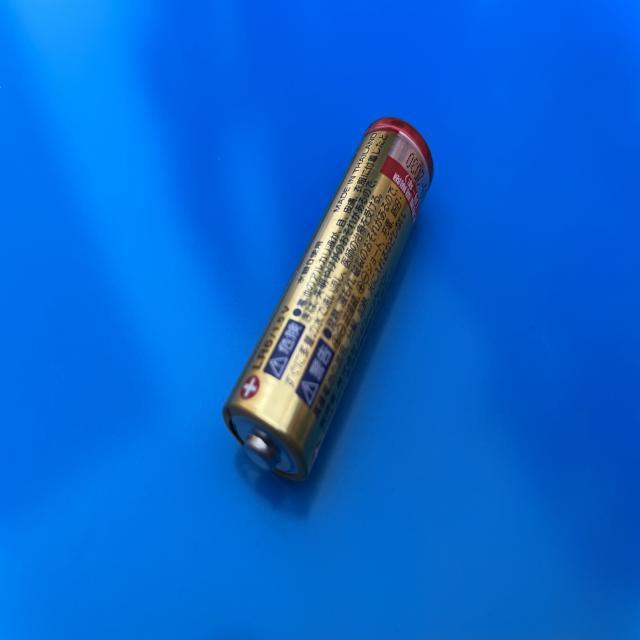hazardous waste: (220, 116, 436, 484)
